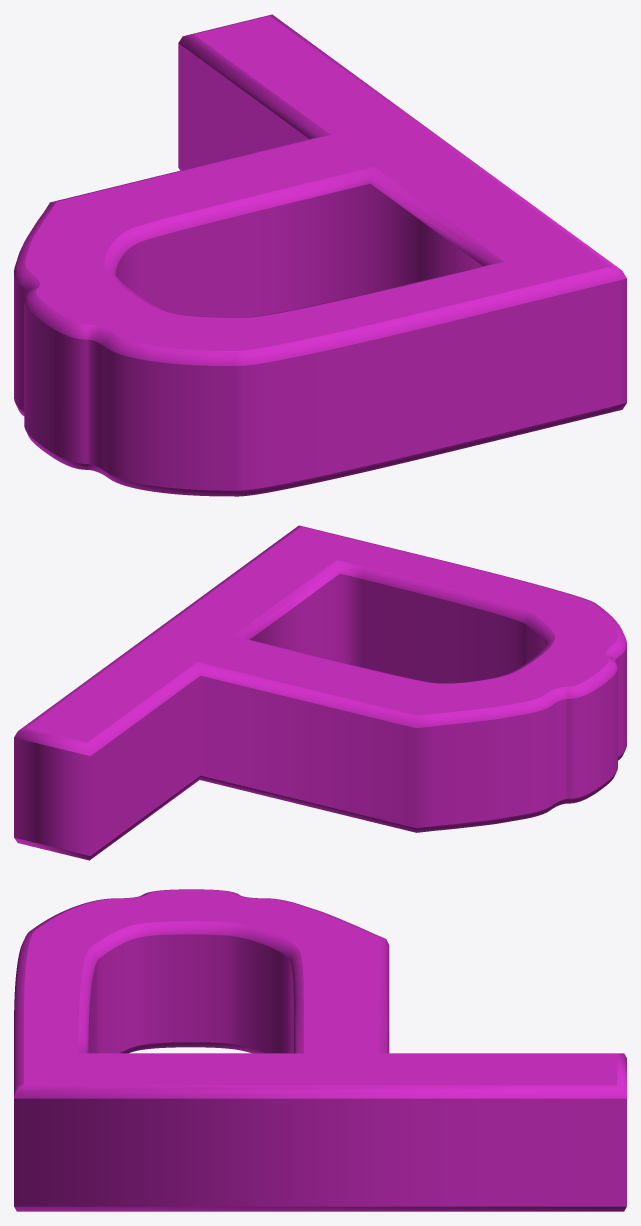
File: Blocky_LetterP.fbx
The picture shows the model from 3 angles, top to bottom: view 1: azimuth 30°, elevation 25°; view 2: azimuth 150°, elevation 25°; view 3: azimuth 270°, elevation 25°; orthographic projection. The views are drawn at different scales.
Parts seen in each view (by area): view 1: BlockyLetter_P; view 2: BlockyLetter_P; view 3: BlockyLetter_P.
Boxes of the visible parts, left/top/right/bottom form: BlockyLetter_P: left=14, top=14, right=626, bottom=496; BlockyLetter_P: left=14, top=525, right=626, bottom=860; BlockyLetter_P: left=14, top=889, right=626, bottom=1211.
Bounding box in the file's own units: 0.487 × 0.14 × 0.618.
